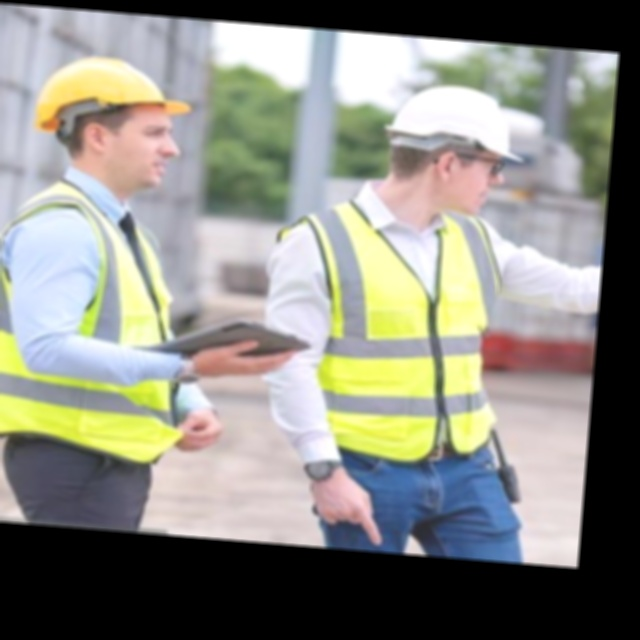Con_Casco: (374, 81, 527, 223)
Con_Chaleco: (261, 201, 501, 464), (0, 191, 198, 463)
